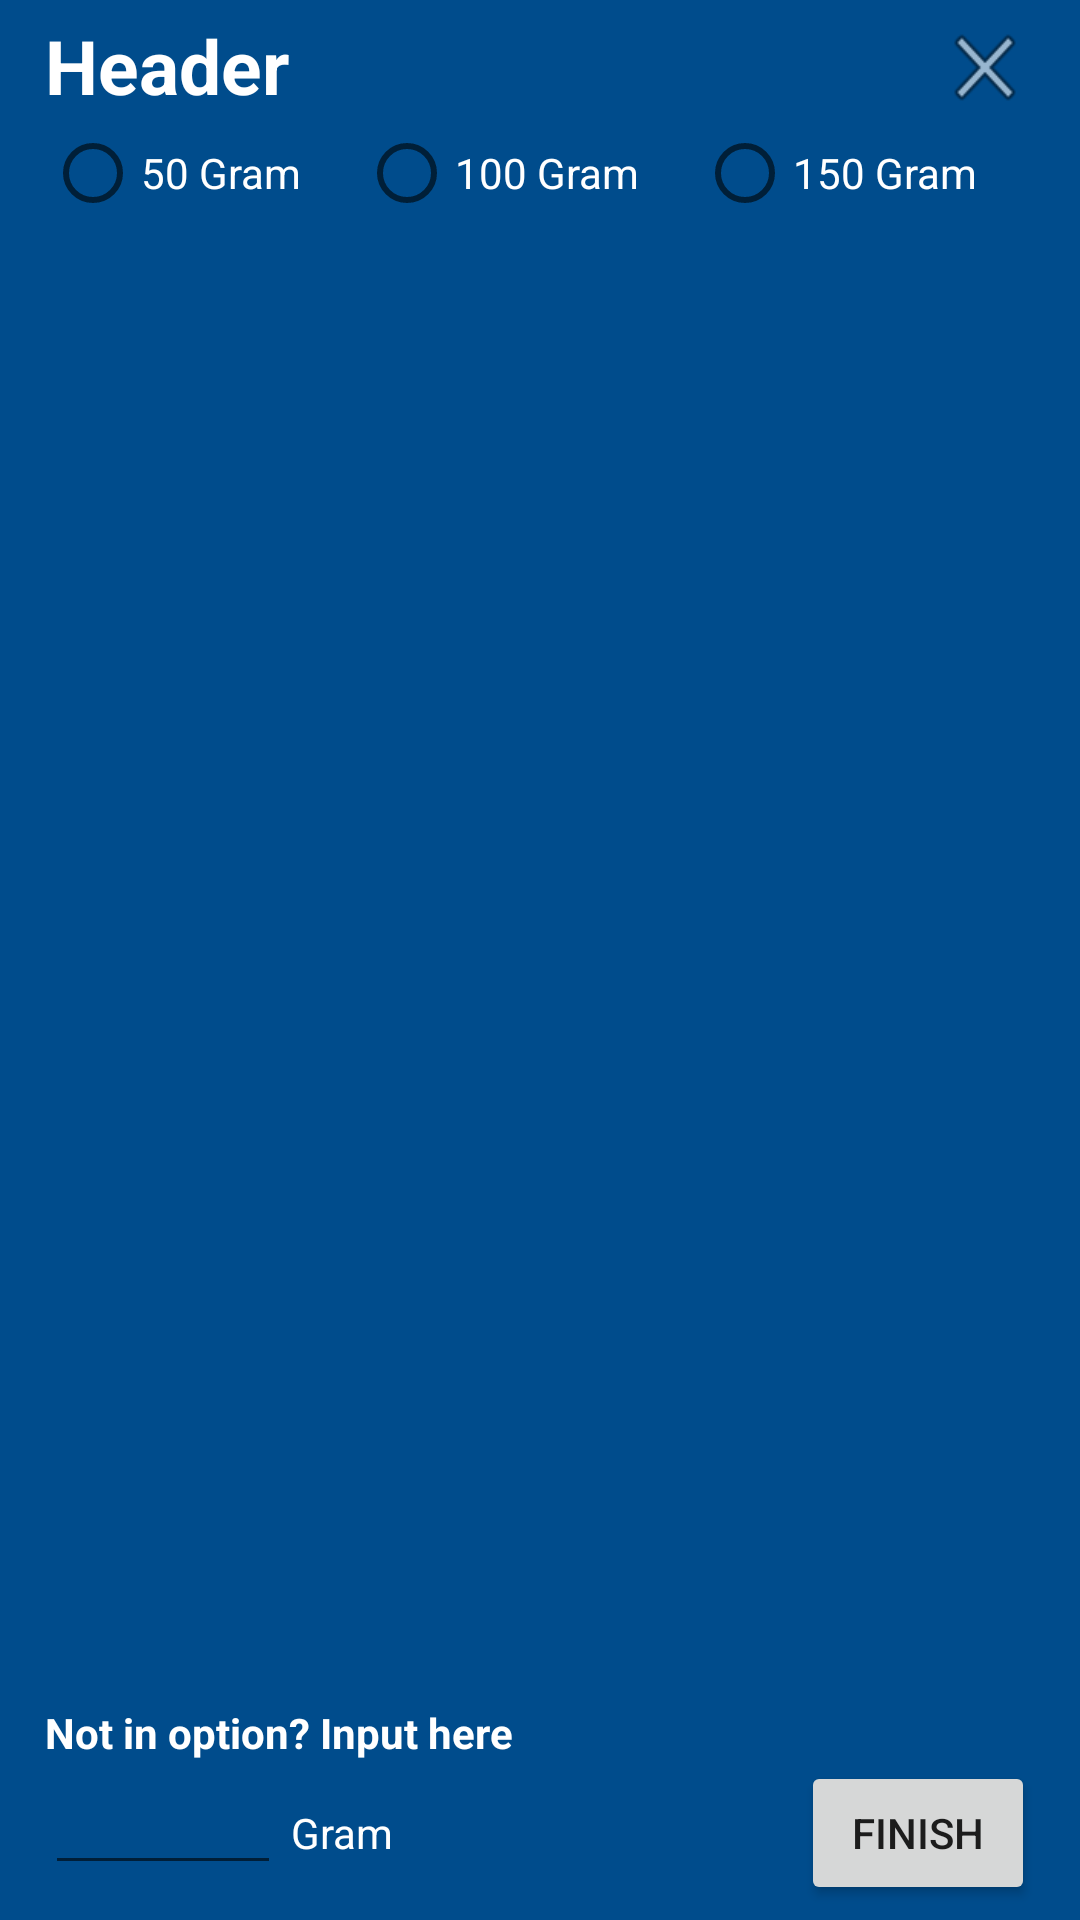

Screen size 1080×1920. Icon name, then its center in pixels as point (x, y):
close clear cancel: point (985, 67)
